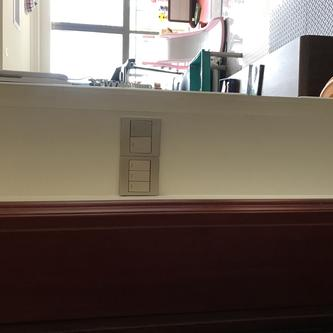switch: (126, 136, 154, 153), (129, 119, 153, 136), (127, 156, 152, 172), (123, 170, 155, 181), (129, 180, 152, 192)
